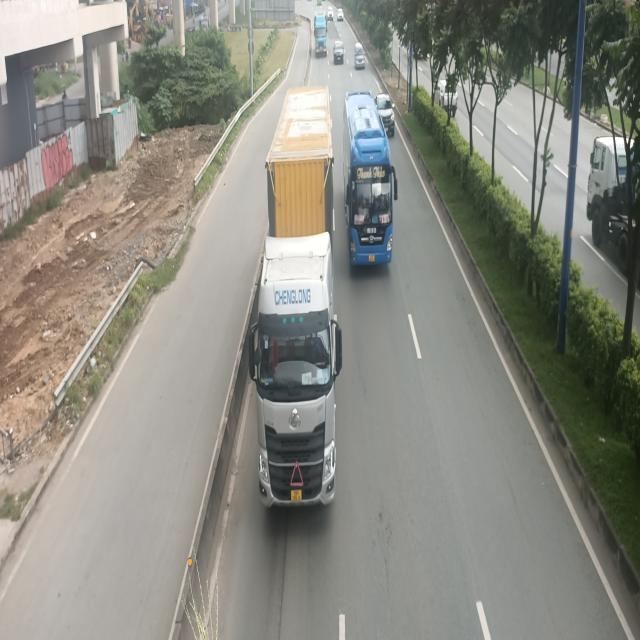car: (376, 94, 395, 138)
coach: (344, 92, 397, 267)
container: (249, 89, 344, 508), (314, 10, 327, 56)
